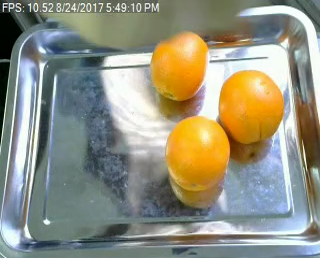Orange: (217, 70, 284, 145), (165, 116, 230, 190), (149, 29, 208, 100)
